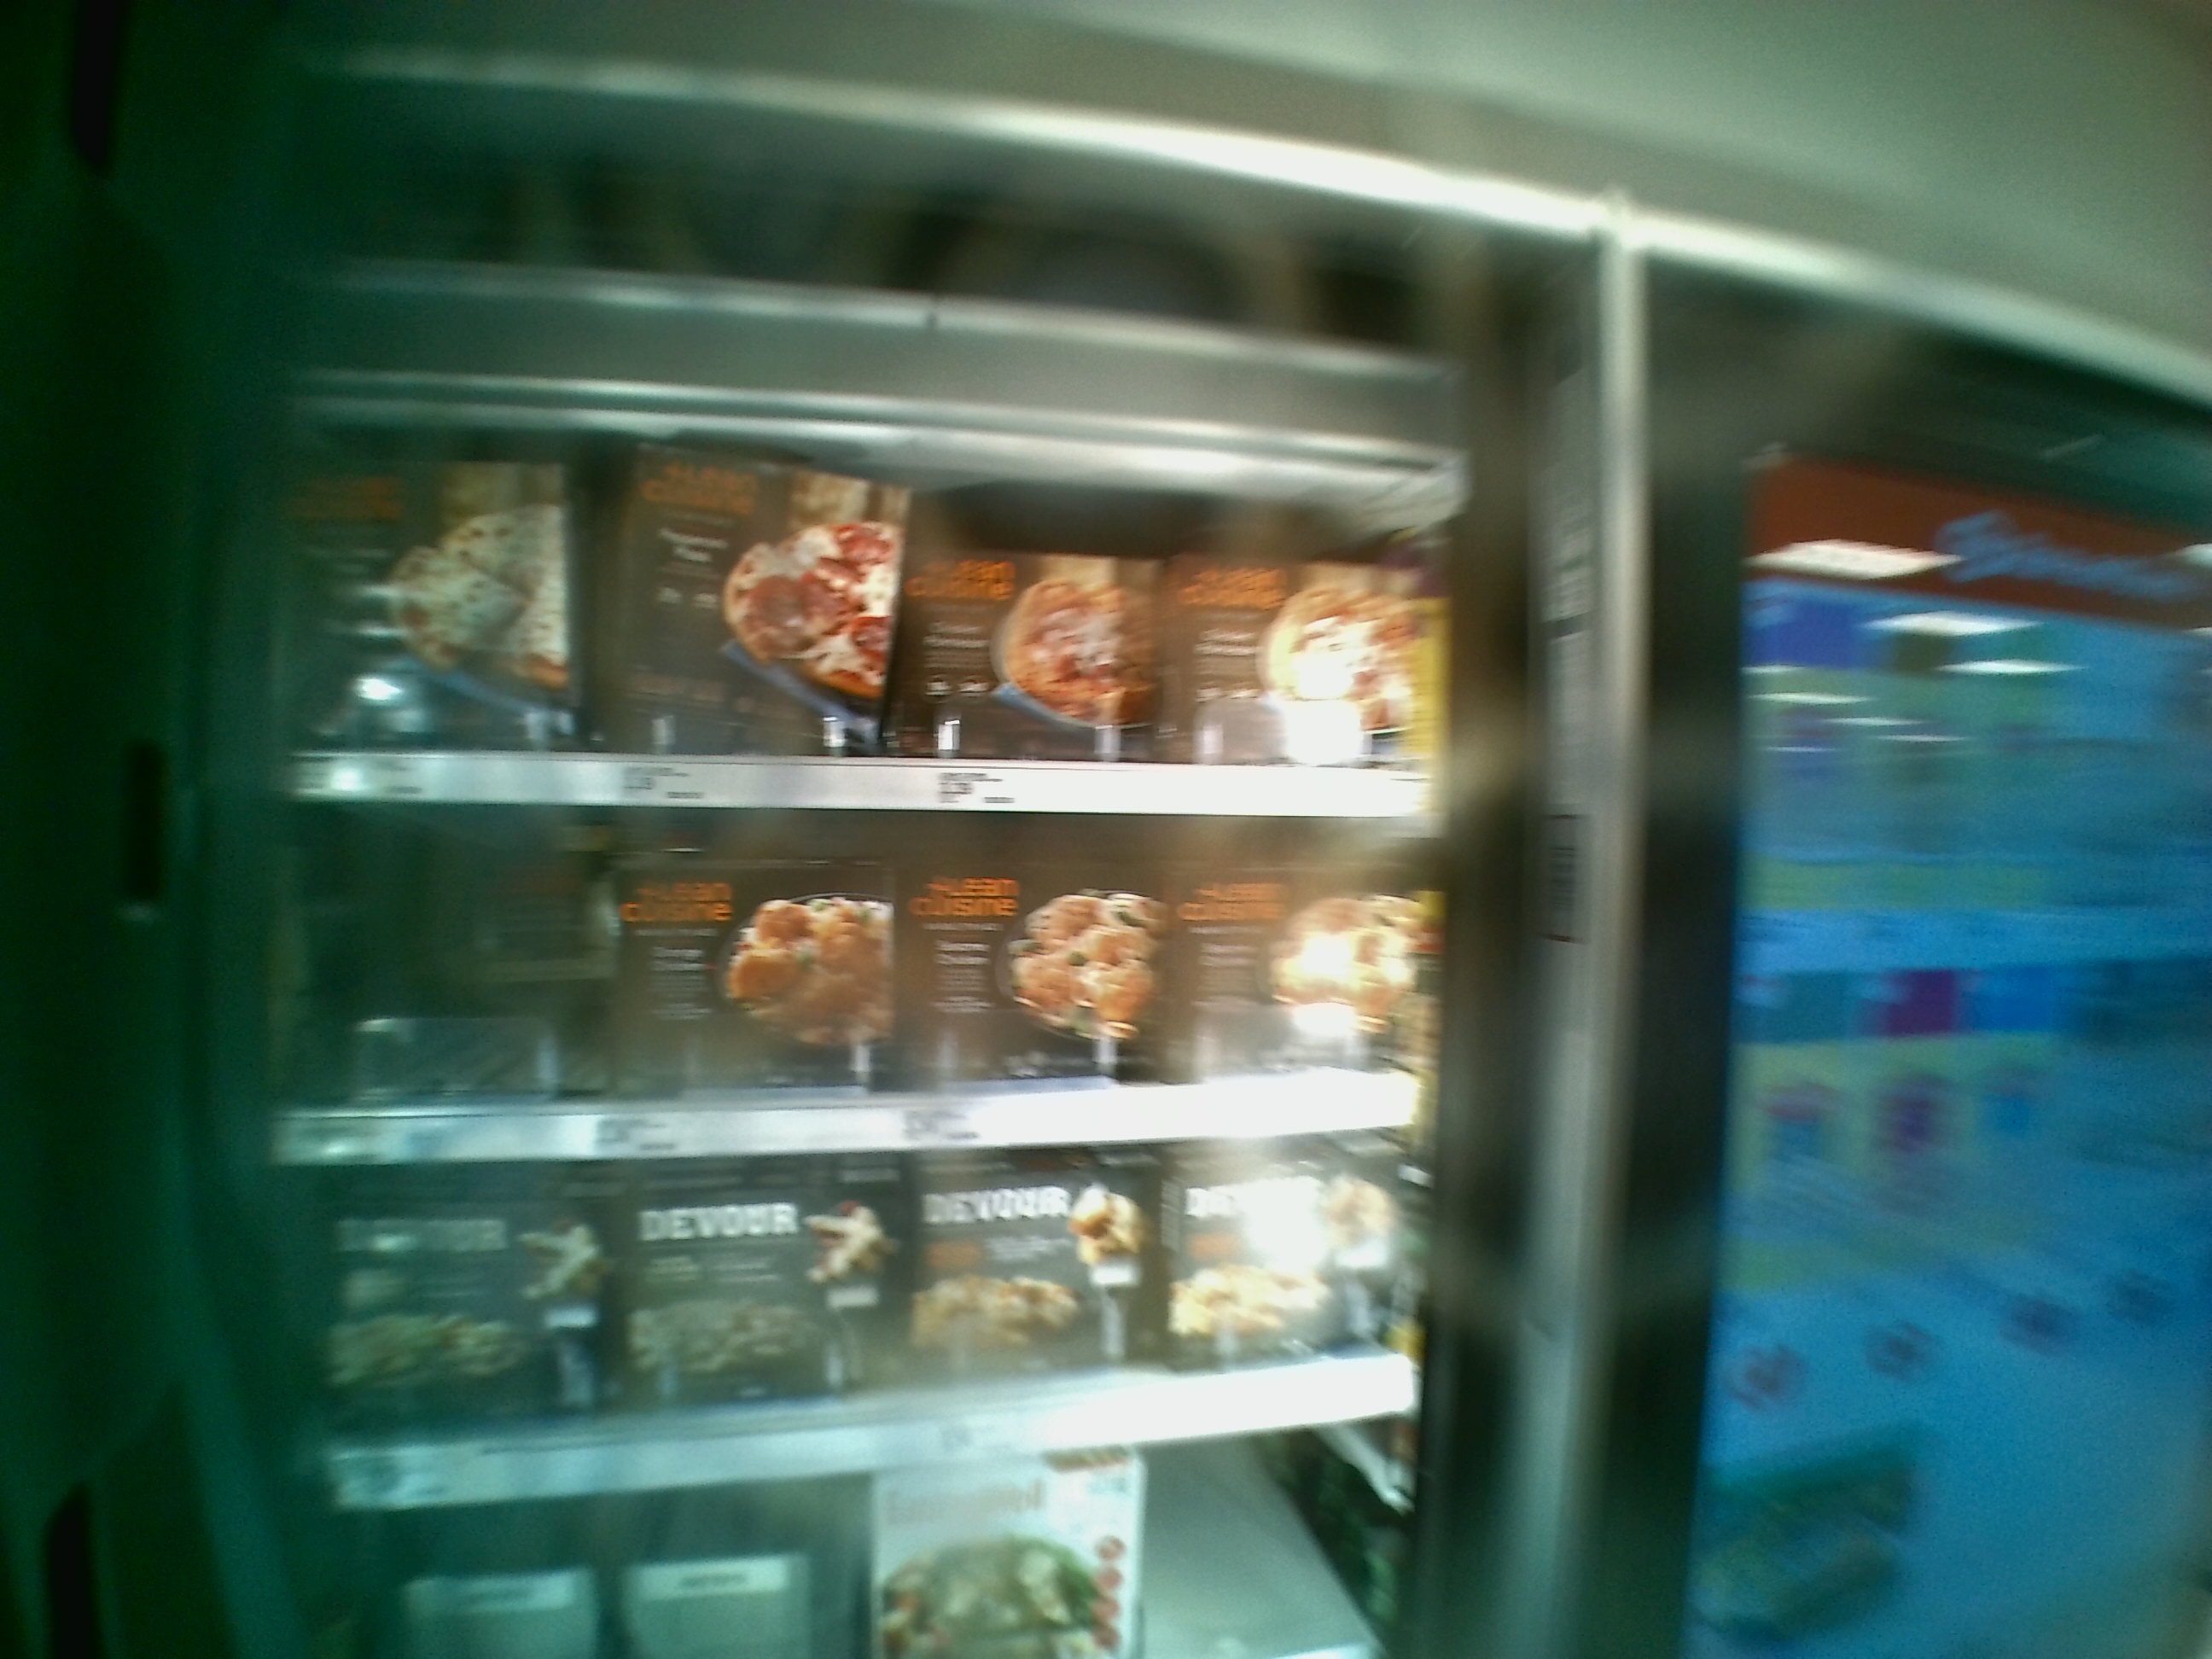shelf: (273, 403, 1440, 824), (254, 802, 1420, 1168)
